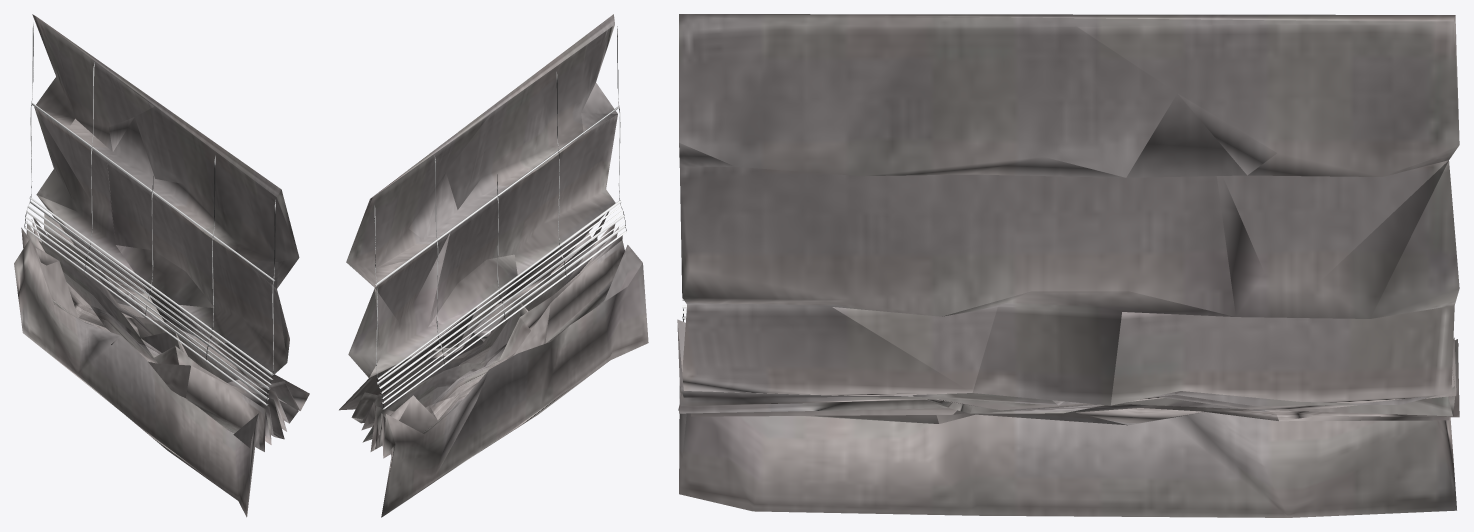
File: Curtains0008.obj
3 views of the same model, side by side, from view 1: azimuth 30°, elevation 25°; view 2: azimuth 150°, elevation 25°; view 3: azimuth 270°, elevation 25° (orthographic). The views are drawn at different scales.
Bounding box in the file's own units: 0.148 × 0.701 × 0.962.
Materials: 1 (1 with a texture image).
